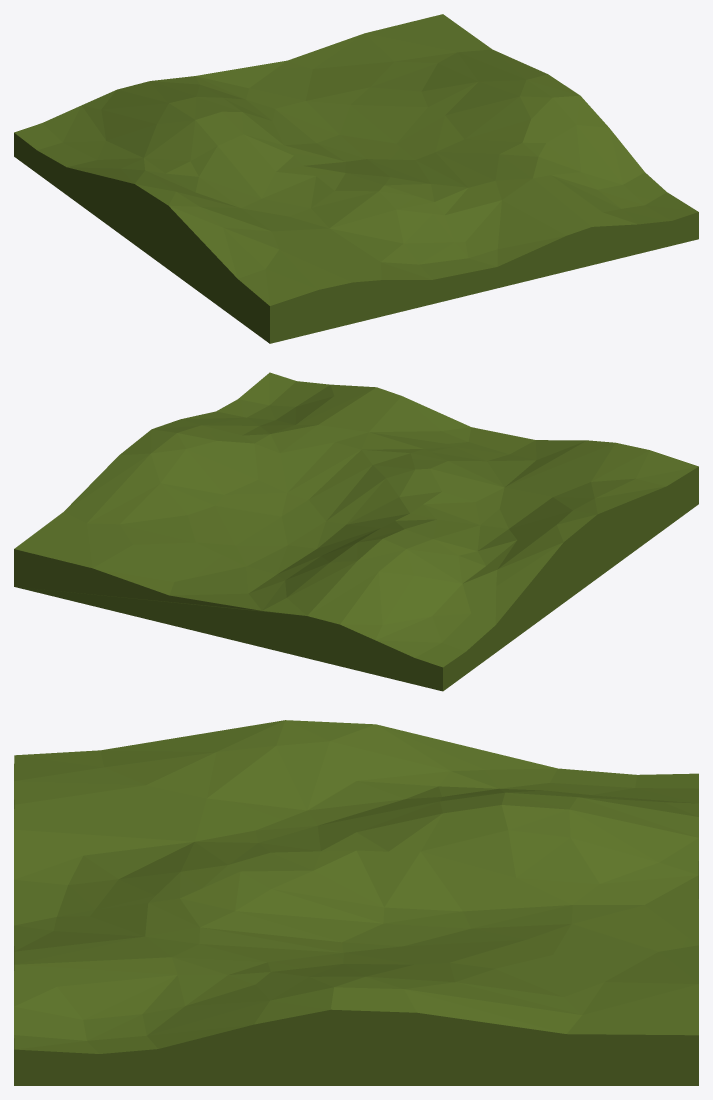
Rendered from road-terrain-2.glb.
3 renders of one model, top to bottom at view 1: azimuth 30°, elevation 25°; view 2: azimuth 150°, elevation 25°; view 3: azimuth 270°, elevation 25°, orthographic. The views are drawn at different scales.
Visible parts, largest first — view 1: ground; view 2: ground; view 3: ground.
Boxes of the visible parts, x1=… form: ground: x1=14, y1=14, x2=698, y2=343; ground: x1=14, y1=372, x2=698, y2=691; ground: x1=14, y1=720, x2=698, y2=1085.
Size of the model in its own units: 34.39 by 5.06 by 35.54.
